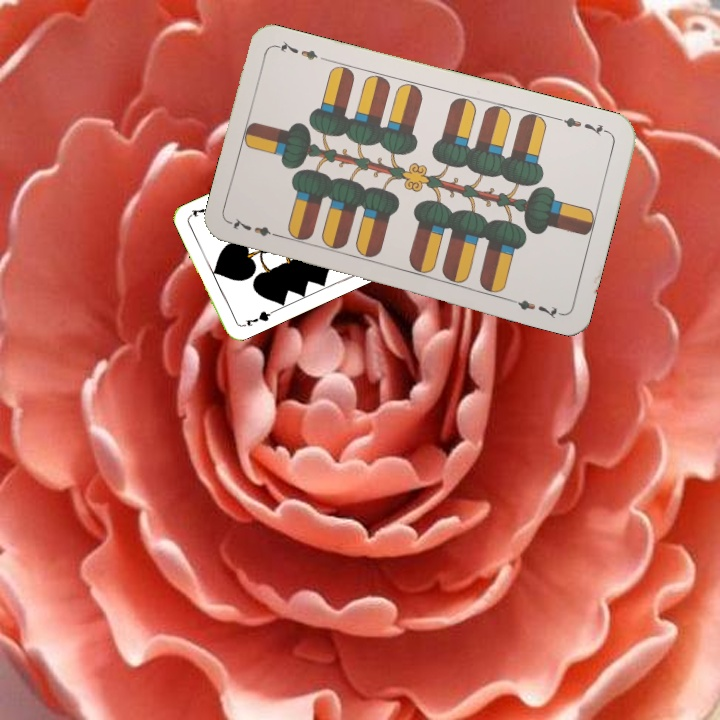E7: (227, 214, 285, 241), (554, 113, 612, 139)
G7: (241, 307, 276, 329)
